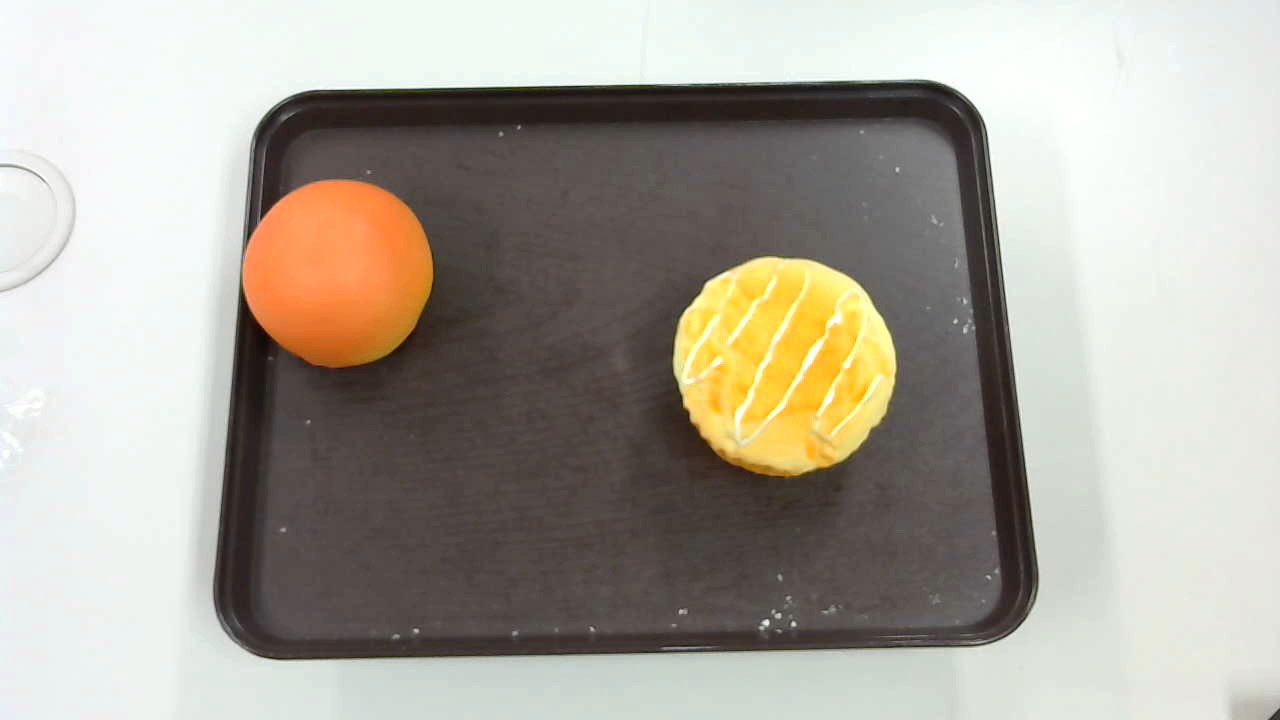bun: (240, 179, 433, 368)
cupcake: (673, 256, 896, 477)
